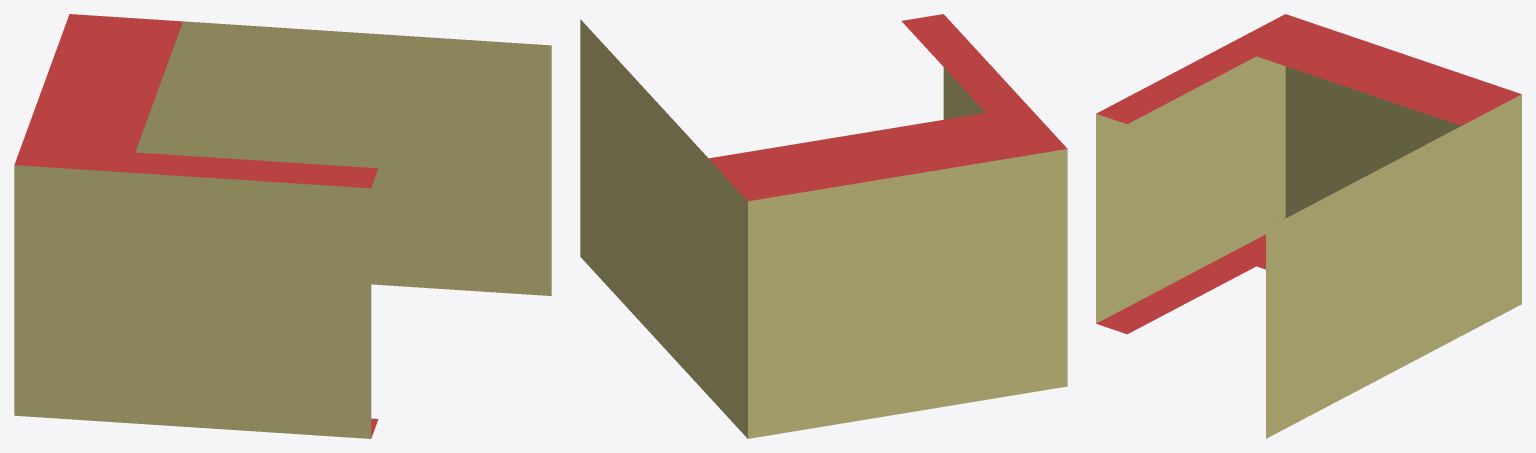
3 renders of one model, left to right at view 1: azimuth 30°, elevation 25°; view 2: azimuth 150°, elevation 25°; view 3: azimuth 270°, elevation 25°, orthographic. The views are drawn at different scales.
Bounding box in the file's own units: 13.51 × 11.31 × 6.15.
